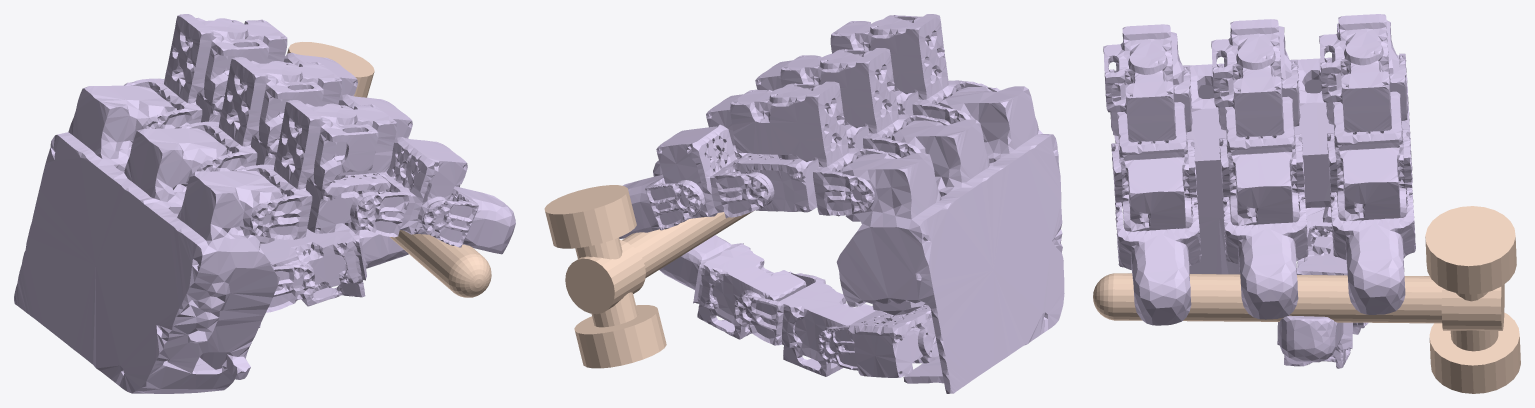
The model's file is e59b6fda69154c-final.glb.
3 views of the same model, side by side, from view 1: azimuth 30°, elevation 25°; view 2: azimuth 150°, elevation 25°; view 3: azimuth 270°, elevation 25° (orthographic). The views are drawn at different scales.
Parts seen in each view (by area): view 1: LEAP_hand, world; view 2: LEAP_hand, world; view 3: LEAP_hand, world.
Boxes of the visible parts, x1,y1,x2,y2 form: LEAP_hand: (14, 14, 515, 393); world: (287, 42, 491, 297); LEAP_hand: (619, 14, 1064, 393); world: (544, 185, 754, 368); LEAP_hand: (1103, 14, 1415, 368); world: (1093, 206, 1520, 393).
Size of the model in its own units: 0.1894 by 0.1394 by 0.1798.
